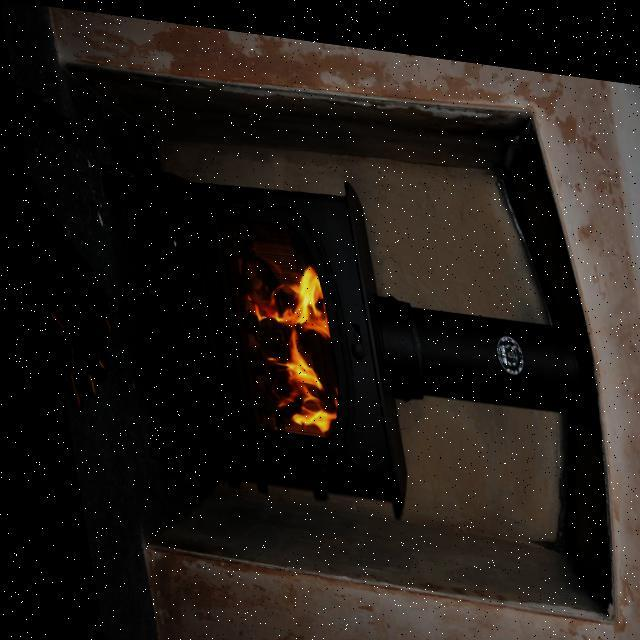Fire: (206, 235, 342, 437)
